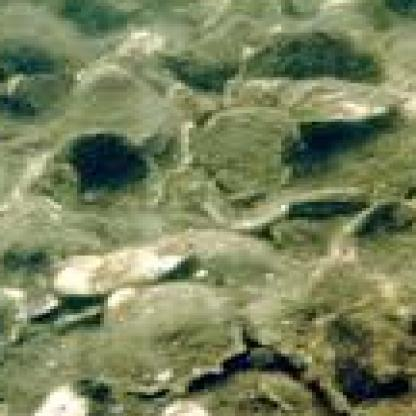Oyster- Indeterminate: (65, 65, 178, 150)
Oyster-Closed: (94, 283, 242, 395), (53, 235, 199, 296), (197, 108, 294, 195), (236, 28, 378, 82), (286, 79, 406, 129), (229, 79, 313, 121), (289, 187, 368, 214)
